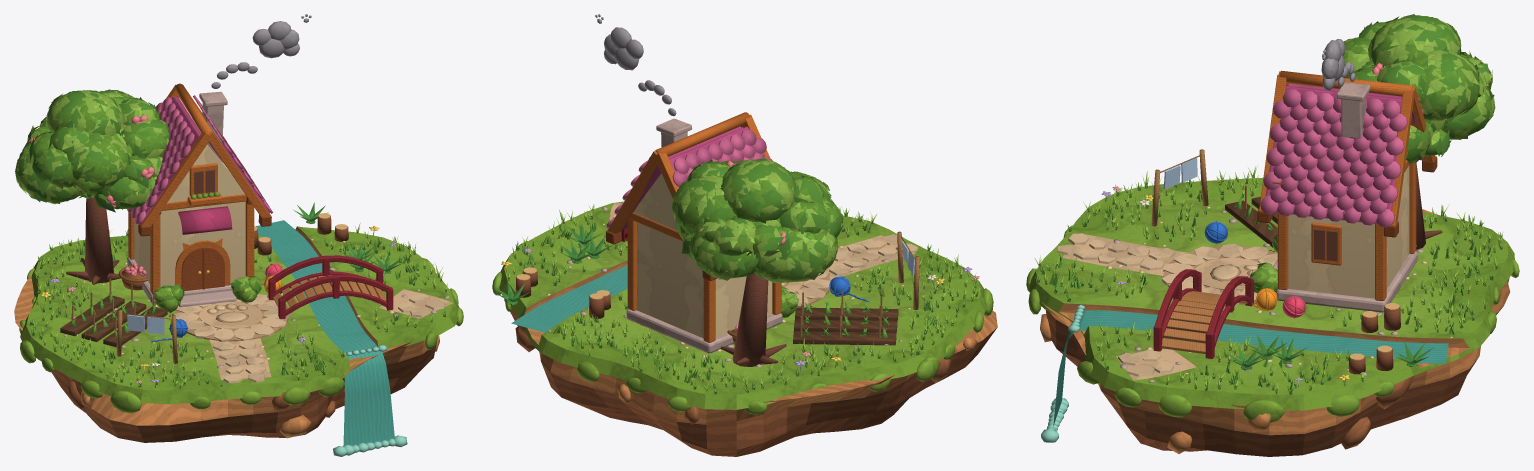
The model's file is cottage_isle.glb.
The picture shows the model from 3 angles, left to right: view 1: azimuth 30°, elevation 25°; view 2: azimuth 150°, elevation 25°; view 3: azimuth 270°, elevation 25°; orthographic projection. The views are drawn at different scales.
Visible parts, largest first — view 1: Isle.Grass-col, Scatter.TreeLeaves, Isle.Cliff, Water, Scatter.Grass, Cottage.Walls-col, Bridge.Rails, Isle.GrassLip, Cottage.Scales, Tree.Trunk, Garden.Soil, Plaza.Ring (+34 smaller); view 2: Isle.Grass-col, Isle.Cliff, Scatter.TreeLeaves, Scatter.Grass, Cottage.Walls-col, Garden.Soil, Tree.Trunk, Isle.GrassLip, Water, Cottage.Scales, Tree.Leaves, Cottage.Smoke (+17 smaller); view 3: Isle.Grass-col, Cottage.Scales, Isle.Cliff, Scatter.TreeLeaves, Scatter.Grass, Cottage.Walls-col, Water, Isle.GrassLip, Bridge.Rails, Bridge.Deck-col, FrontPath.Stones, Plaza.Ring (+28 smaller).
Part boxes in pixels (left/top/right/bottom): Isle.Grass-col: left=20, top=226, right=458, bottom=404; Scatter.TreeLeaves: left=15, top=89, right=169, bottom=212; Isle.Cliff: left=14, top=274, right=436, bottom=442; Water: left=256, top=220, right=395, bottom=446; Scatter.Grass: left=28, top=223, right=447, bottom=389; Cottage.Walls-col: left=134, top=163, right=245, bottom=286; Bridge.Rails: left=268, top=255, right=393, bottom=319; Isle.GrassLip: left=19, top=258, right=463, bottom=413; Cottage.Scales: left=127, top=95, right=272, bottom=224; Tree.Trunk: left=66, top=197, right=120, bottom=284; Garden.Soil: left=60, top=295, right=173, bottom=347; Plaza.Ring: left=171, top=294, right=290, bottom=341; Isle.Grass-col: left=499, top=201, right=987, bottom=409; Isle.Cliff: left=504, top=298, right=997, bottom=456; Scatter.TreeLeaves: left=671, top=157, right=843, bottom=282; Scatter.Grass: left=505, top=204, right=981, bottom=394; Cottage.Walls-col: left=636, top=222, right=772, bottom=338; Garden.Soil: left=793, top=304, right=898, bottom=345; Tree.Trunk: left=720, top=273, right=786, bottom=366; Isle.GrassLip: left=492, top=217, right=993, bottom=414; Water: left=511, top=265, right=627, bottom=332; Cottage.Scales: left=606, top=129, right=772, bottom=228; Tree.Leaves: left=674, top=163, right=827, bottom=278; Cottage.Smoke: left=595, top=14, right=676, bottom=116; Isle.Grass-col: left=1029, top=177, right=1514, bottom=410; Cottage.Scales: left=1260, top=89, right=1424, bottom=227; Isle.Cliff: left=1041, top=209, right=1510, bottom=456; Scatter.TreeLeaves: left=1343, top=14, right=1495, bottom=164; Scatter.Grass: left=1035, top=165, right=1503, bottom=394; Cottage.Walls-col: left=1288, top=165, right=1409, bottom=298; Water: left=1053, top=310, right=1448, bottom=427; Isle.GrassLip: left=1026, top=191, right=1519, bottom=422; Bridge.Rails: left=1153, top=269, right=1253, bottom=358; Bridge.Deck-col: left=1161, top=291, right=1247, bottom=353; FrontPath.Stones: left=1057, top=233, right=1175, bottom=270; Plaza.Ring: left=1162, top=243, right=1277, bottom=305.
Size of the model in its own units: 10.74 by 9.02 by 9.81.
Materials: 53 (37 with a texture image).
